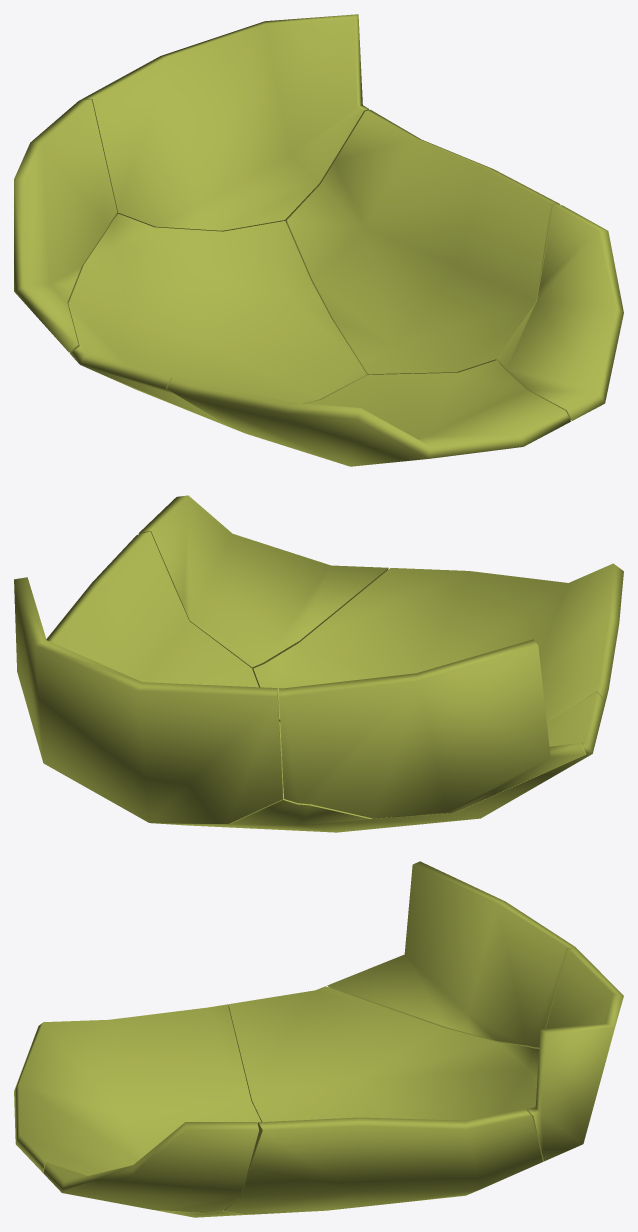
The model's file is Plaque_11.fbx.
3 views of the same model, one above another, from view 1: azimuth 30°, elevation 25°; view 2: azimuth 150°, elevation 25°; view 3: azimuth 270°, elevation 25° (orthographic). The views are drawn at different scales.
Visible parts, largest first — view 1: tooth_u.035_cell, tooth_u.035_cell.002, tooth_u.035_cell.004, tooth_u.035_cell.003, tooth_u.035_cell.005, tooth_u.035_cell.001; view 2: tooth_u.035_cell.001, tooth_u.035_cell.002, tooth_u.035_cell.003, tooth_u.035_cell.005, tooth_u.035_cell, tooth_u.035_cell.004; view 3: tooth_u.035_cell.004, tooth_u.035_cell.003, tooth_u.035_cell, tooth_u.035_cell.001, tooth_u.035_cell.002, tooth_u.035_cell.005.
Part boxes in pixels (left/top/right/bottom): tooth_u.035_cell: left=286, top=109, right=560, bottom=374; tooth_u.035_cell.002: left=81, top=14, right=368, bottom=231; tooth_u.035_cell.004: left=67, top=213, right=367, bottom=428; tooth_u.035_cell.003: left=166, top=360, right=571, bottom=466; tooth_u.035_cell.005: left=497, top=205, right=623, bottom=420; tooth_u.035_cell.001: left=14, top=99, right=117, bottom=352; tooth_u.035_cell.001: left=279, top=639, right=585, bottom=818; tooth_u.035_cell.002: left=14, top=577, right=282, bottom=823; tooth_u.035_cell.003: left=252, top=563, right=623, bottom=723; tooth_u.035_cell.005: left=138, top=495, right=388, bottom=669; tooth_u.035_cell: left=46, top=531, right=281, bottom=757; tooth_u.035_cell.004: left=161, top=692, right=605, bottom=832; tooth_u.035_cell.004: left=228, top=986, right=538, bottom=1200; tooth_u.035_cell.003: left=14, top=1004, right=261, bottom=1217; tooth_u.035_cell: left=224, top=1109, right=542, bottom=1214; tooth_u.035_cell.001: left=327, top=861, right=576, bottom=1048; tooth_u.035_cell.002: left=526, top=949, right=623, bottom=1161; tooth_u.035_cell.005: left=43, top=1122, right=258, bottom=1212.
Size of the model in its own units: 83.82 by 41.68 by 104.
